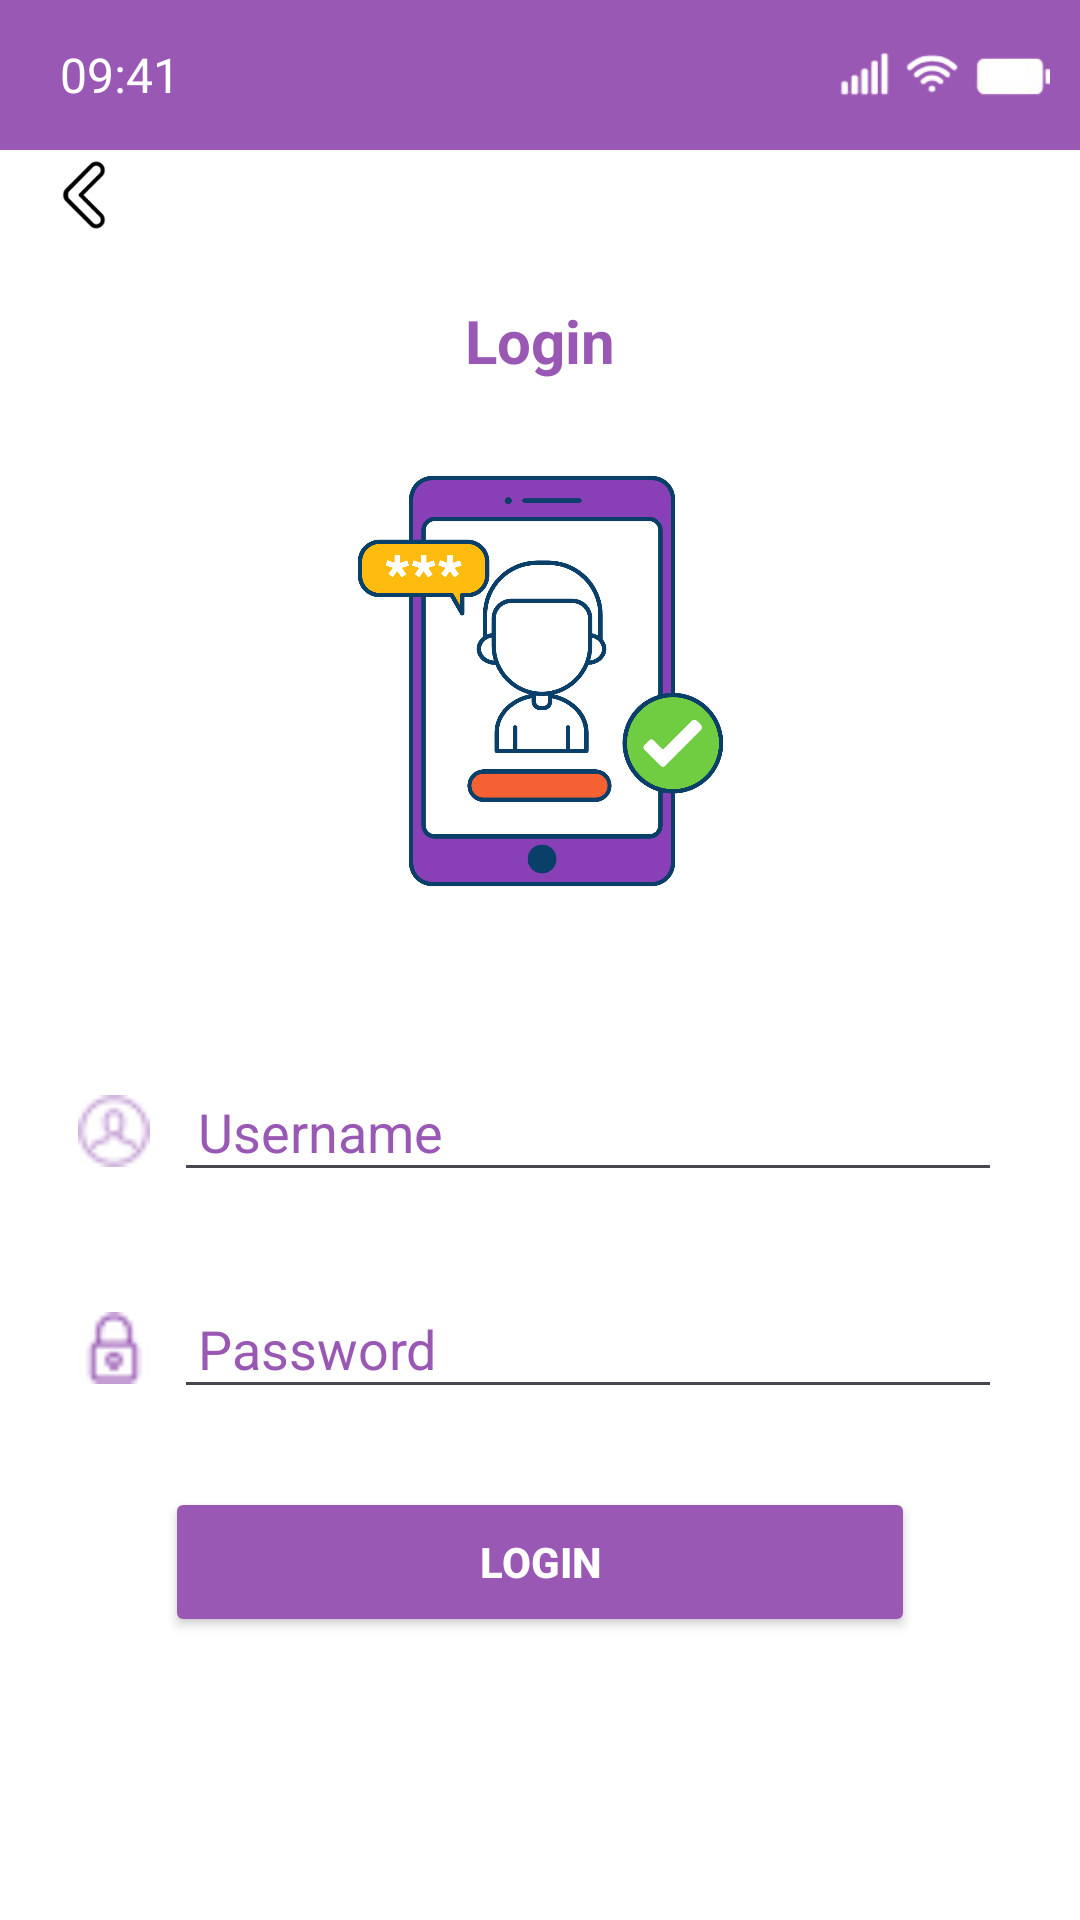

Icons on this 1080px×1920px Android screen, each with its box as (x1, y1, x2, y2):
kembali: (63, 161, 105, 229)
lock: (87, 1312, 141, 1384)
man: (78, 1095, 150, 1167)
